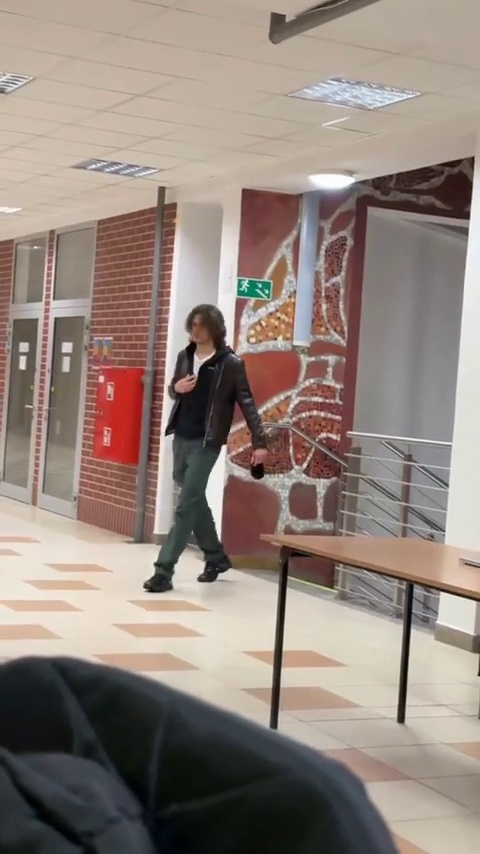no vest: (146, 303, 269, 582)
